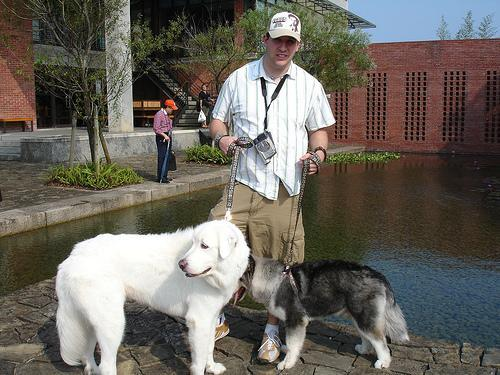Great_Pyrenees: (54, 219, 250, 374)
